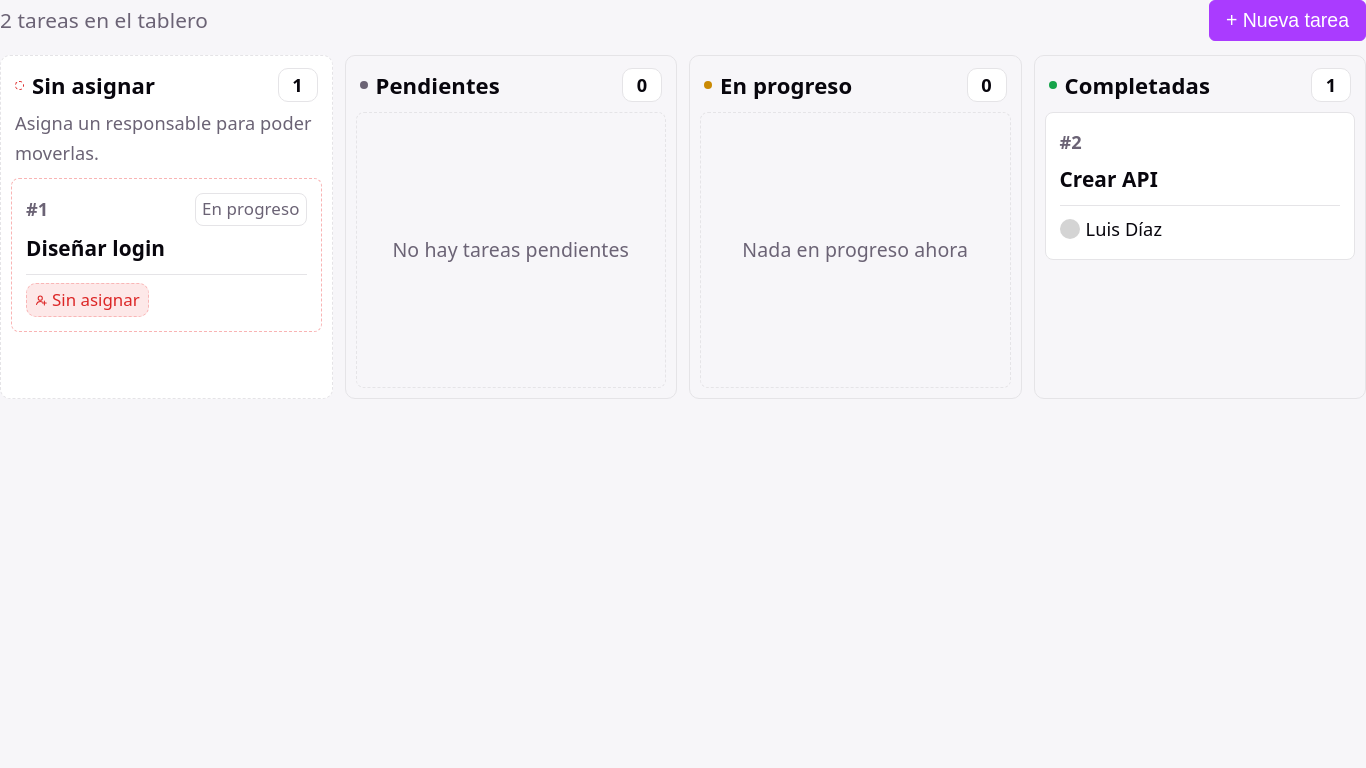
Scenario: agrupa las tareas por columna y la asignación rápida envía la tarea a Pendientes
Expected: the text "2 tareas en el tablero" is shown, left=0, top=5, right=208, bottom=36
Expected: the heading "Diseñar login" is shown, left=26, top=234, right=165, bottom=262
Click the button named "Asignar responsable a \"Diseñar login\"" at (87, 300), box left=26, top=283, right=149, bottom=317
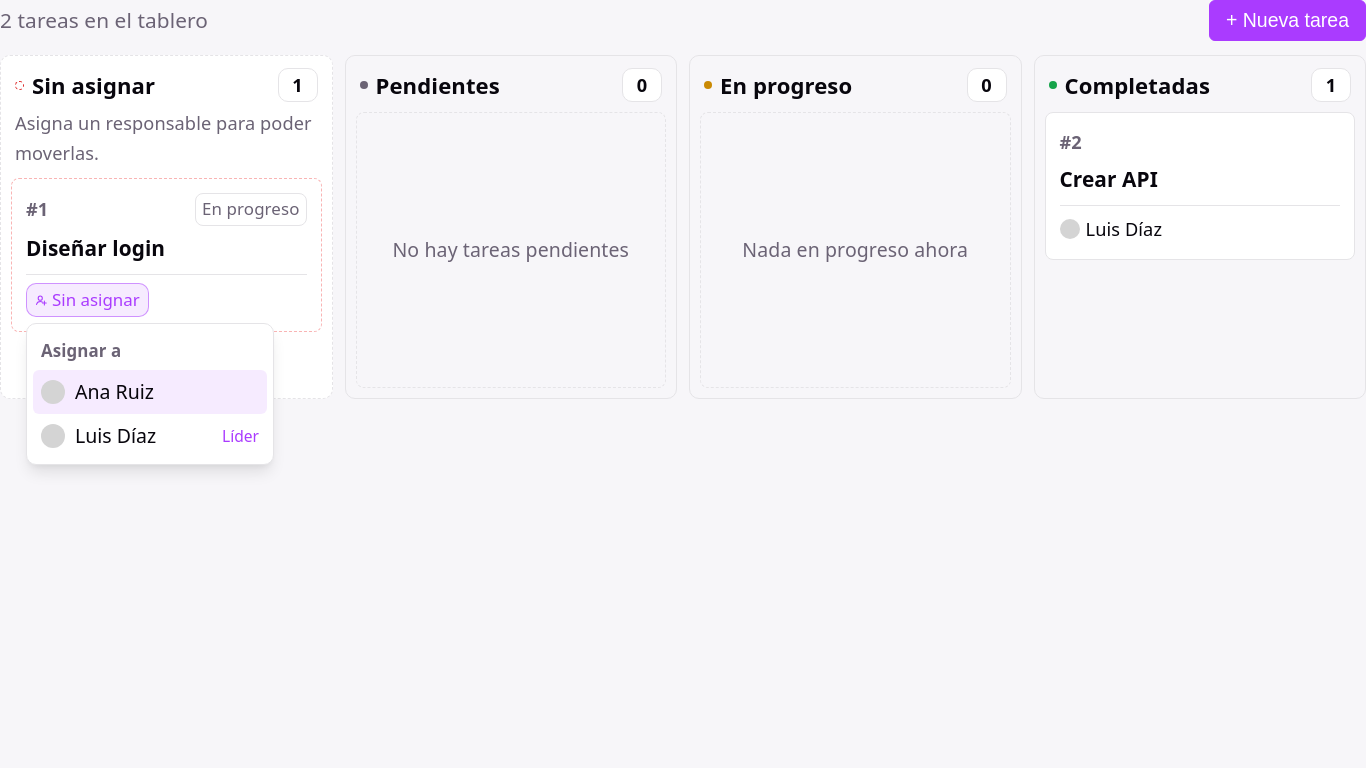
Click the button "Ana Ruiz" at (150, 392), box left=33, top=370, right=267, bottom=414
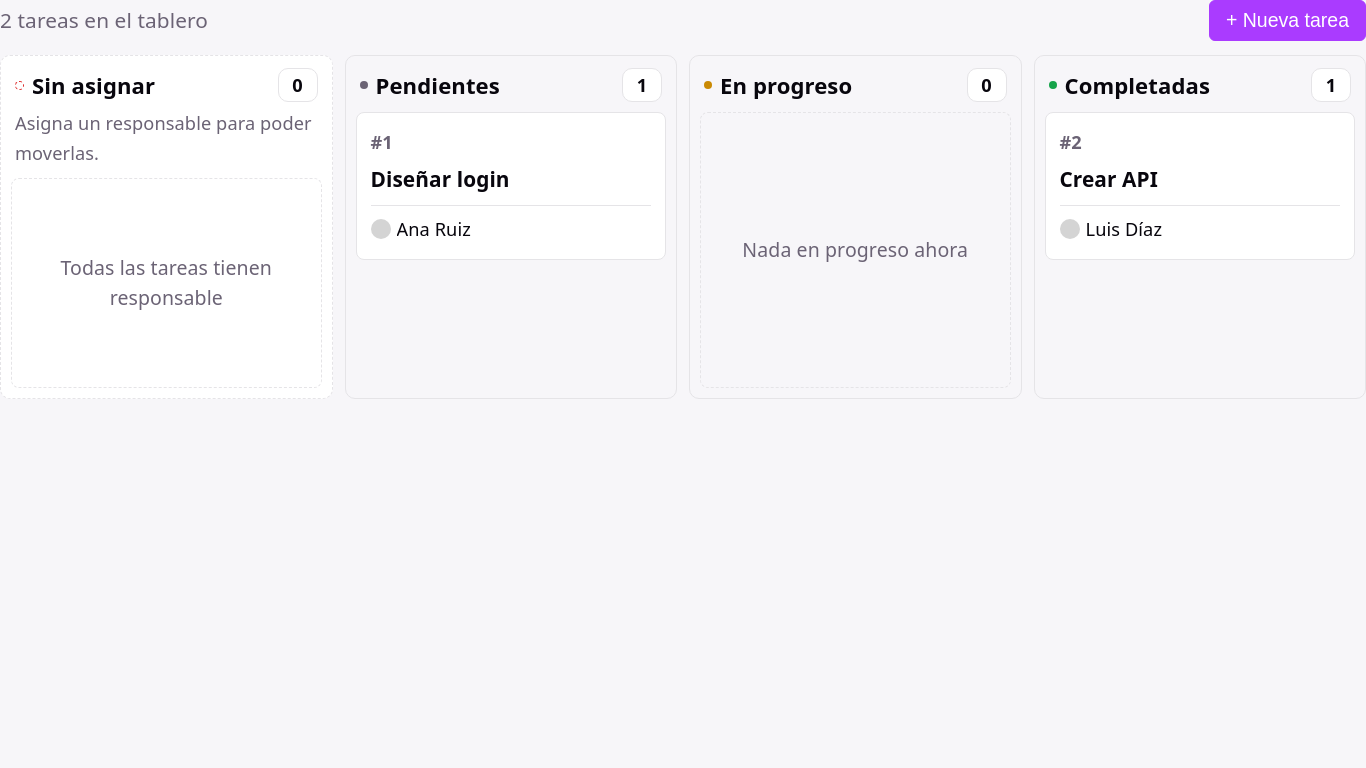
Expected: the heading "Diseñar login" is shown, left=370, top=165, right=510, bottom=193
Expected: the text "Ana Ruiz" is shown, left=396, top=214, right=471, bottom=245
Expected: the text "Todas las tareas tienen responsable" is shown, left=11, top=178, right=322, bottom=388
